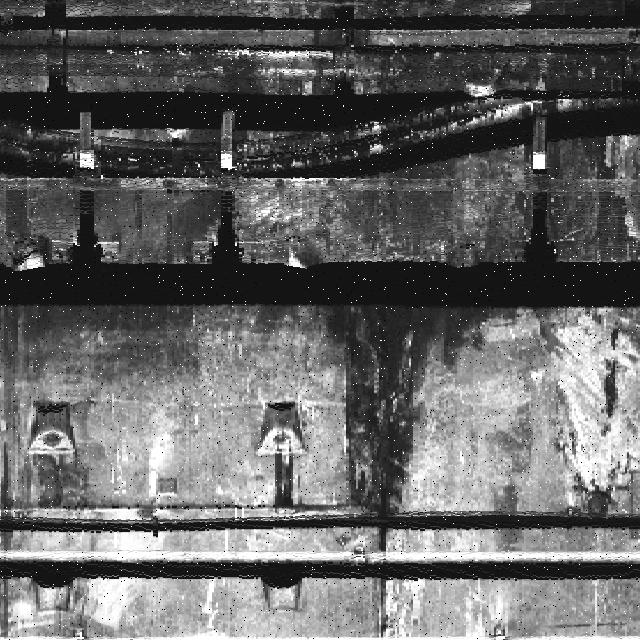leakage: (314, 300, 517, 548)
